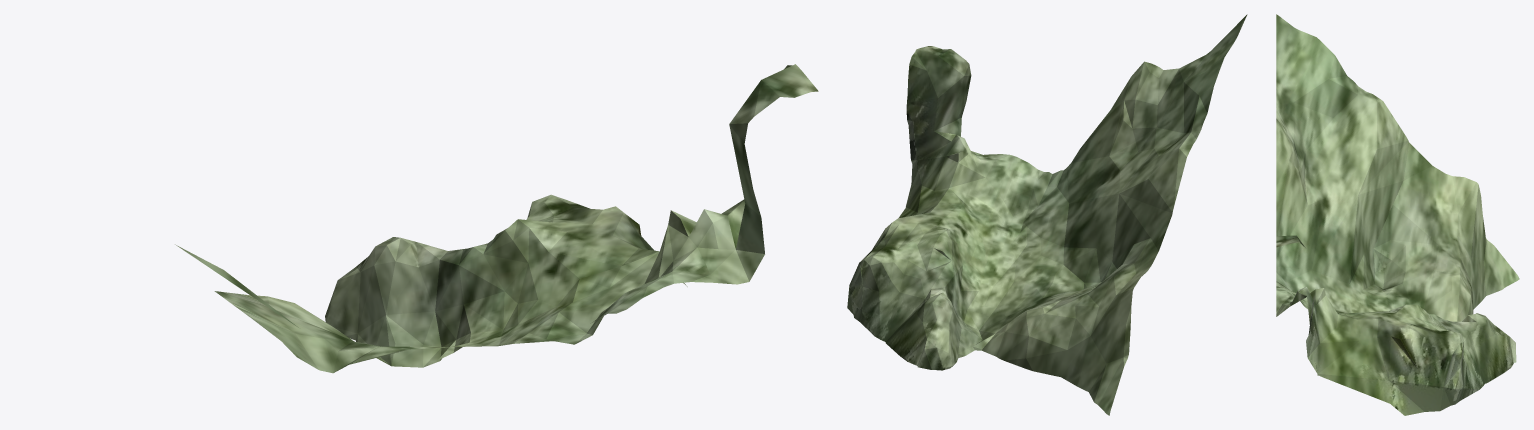
3 renders of one model, left to right at view 1: azimuth 30°, elevation 25°; view 2: azimuth 150°, elevation 25°; view 3: azimuth 270°, elevation 25°, orthographic. The views are drawn at different scales.
Size of the model in its own units: 2.95 by 2.66 by 2.22.
Materials: 3 (3 with a texture image).
